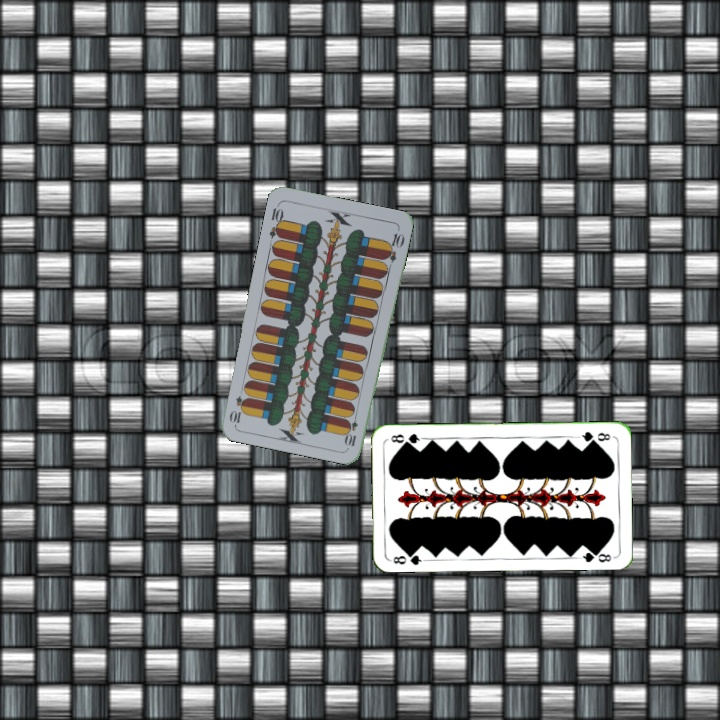E10: (265, 200, 286, 240), (343, 408, 360, 449)
G8: (387, 548, 428, 567), (574, 427, 613, 444)
